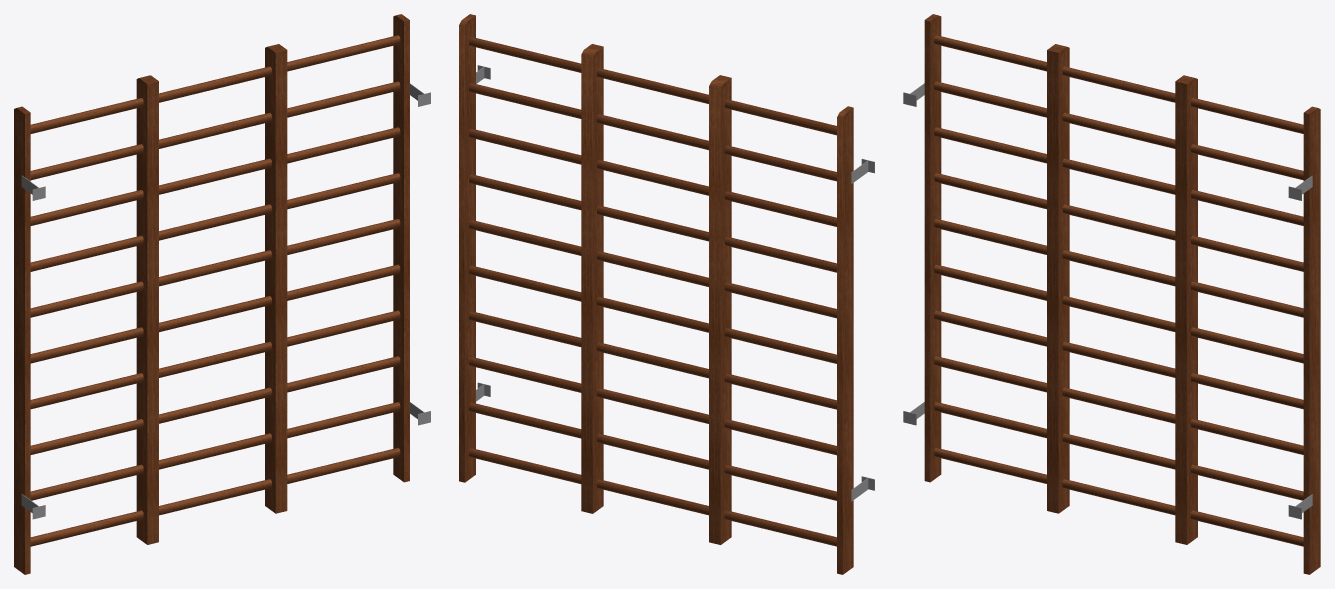
Rendered from SportLadder01b.FBX.
3 renders of one model, left to right at view 1: azimuth 30°, elevation 25°; view 2: azimuth 150°, elevation 25°; view 3: azimuth 330°, elevation 25°, orthographic.
Visible parts, largest first — view 1: ShvStenka1; view 2: ShvStenka1; view 3: ShvStenka1.
Boxes of the visible parts, bbox=[...] form: ShvStenka1: bbox=[14, 14, 430, 574]; ShvStenka1: bbox=[459, 14, 874, 574]; ShvStenka1: bbox=[903, 14, 1320, 574].
Bounding box in the file's own units: 107 × 119 × 11.89.
